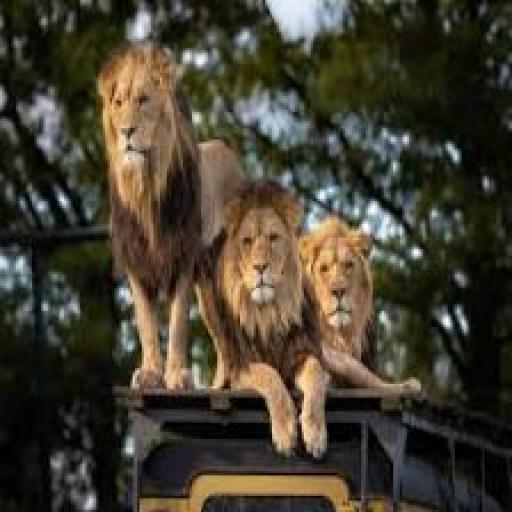lion: (87, 41, 206, 360), (215, 190, 314, 431), (316, 206, 388, 409)
